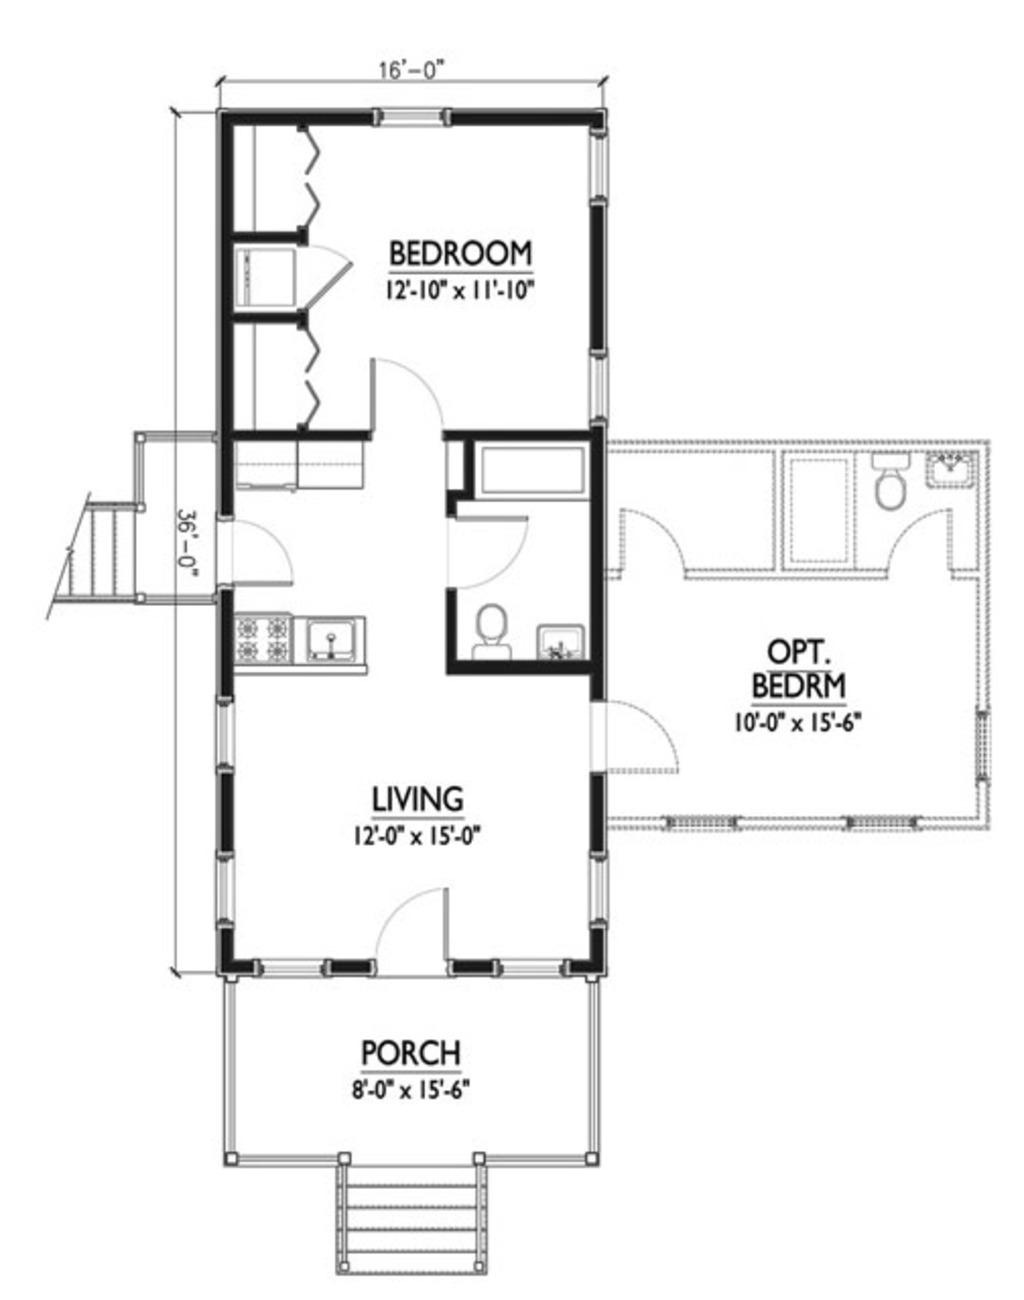door: (591, 697, 688, 784), (212, 505, 302, 595), (440, 508, 531, 591), (373, 885, 452, 980), (362, 351, 441, 429), (876, 506, 956, 584), (609, 504, 685, 585), (299, 244, 356, 317)
large_sink: (452, 603, 517, 667), (862, 444, 913, 508)
small_sink: (922, 451, 980, 490), (533, 619, 591, 658)
stairs: (327, 1152, 491, 1287), (42, 498, 155, 609)
windows: (366, 102, 456, 134), (249, 955, 335, 987), (210, 691, 238, 776), (587, 129, 615, 206), (212, 845, 238, 931), (585, 351, 612, 427), (483, 960, 573, 983), (588, 852, 609, 926)
